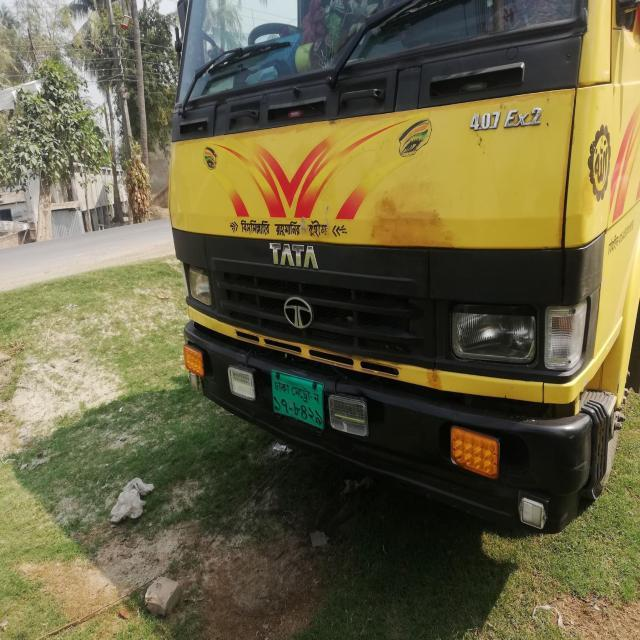numberplate: (269, 369, 325, 430)
